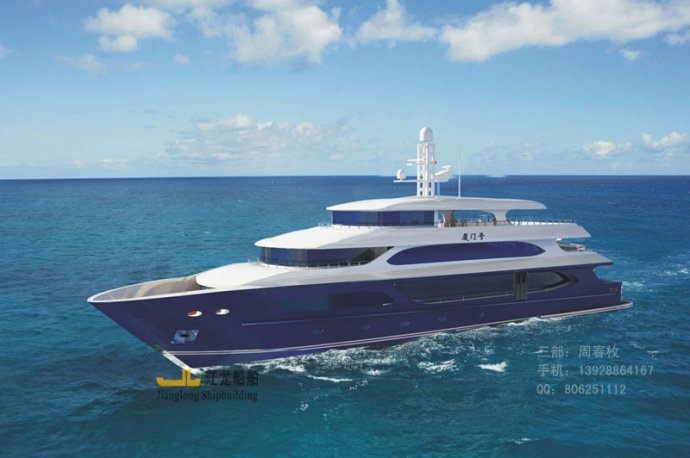yacht: (95, 123, 633, 374)
